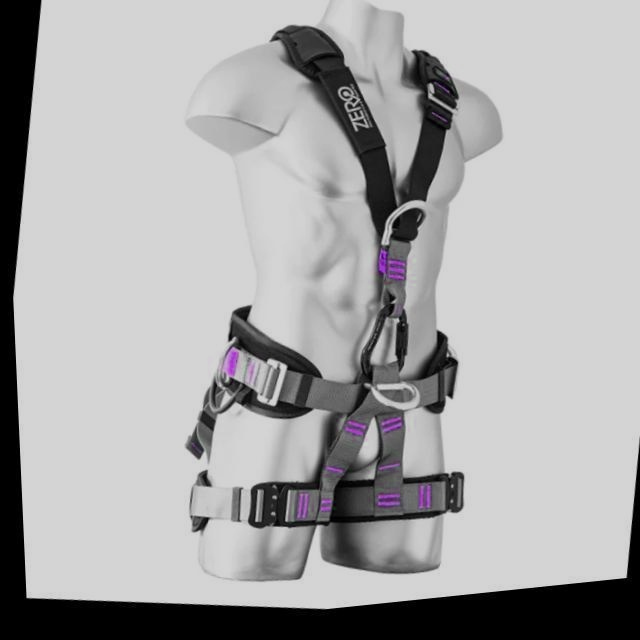safety belt: (202, 26, 483, 529)
